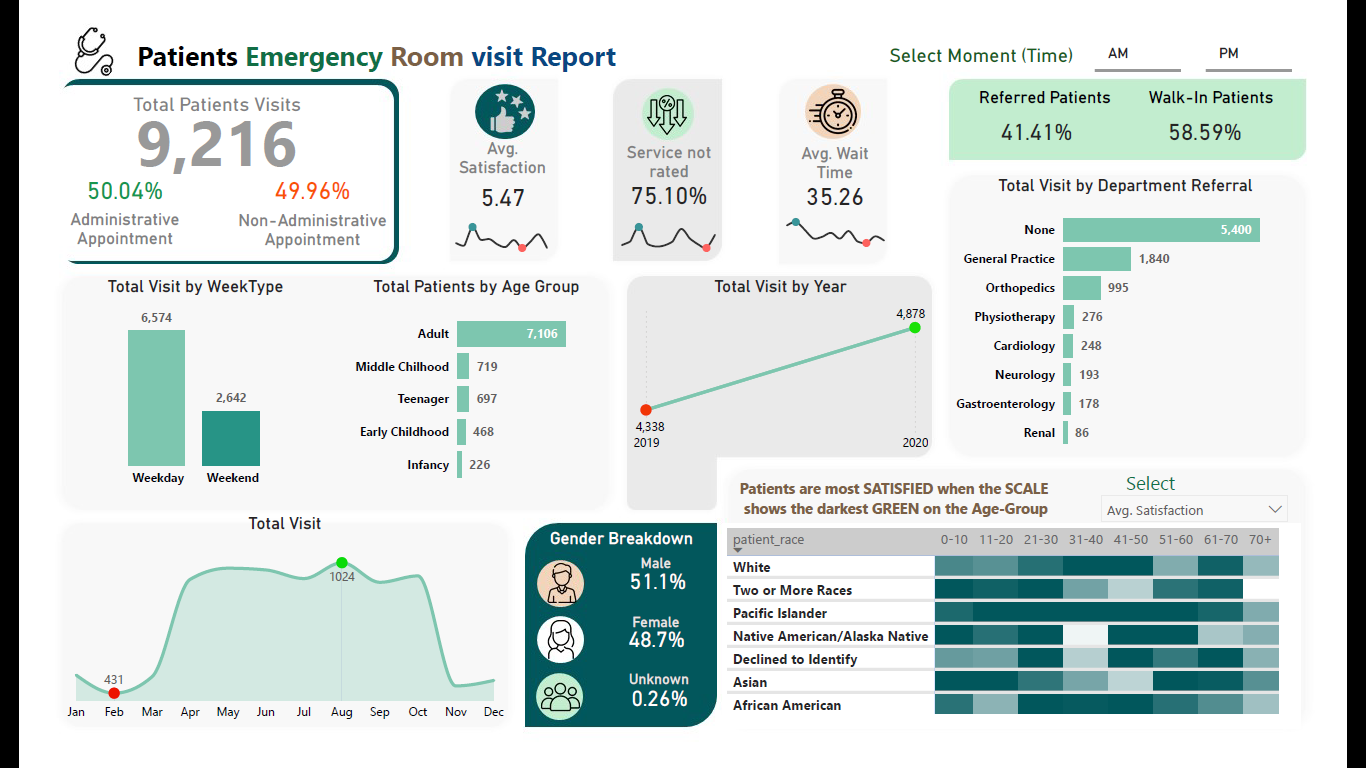

Layout of this report page (visuals, bound fields, positions):
{"tool":"powerbi","page":{"name":"Patient Healthcare","canvas":[1500,900],"ordinal":0},"visuals":[{"type":"card","fields":{"Values":["Calculations.Total_Patients"]},"box":[90.4,65.6,244.5,67.3],"z":0},{"type":"card","fields":{"Values":["Calculations.% Adminstrative Schedule"]},"box":[90.4,127.6,92.1,42.5],"z":1000},{"type":"card","fields":{"Values":["Calculations.% NON Adminstrative Schedule"]},"box":[223.2,122.2,122.2,42.5],"z":2000},{"type":"pivotTable","fields":{"Values":["Calculations.Avg Wait Time"],"Rows":["Patient_Dashboard.patient_race","DATE.Month"],"Columns":["Patient_Dashboard.Age Buckets"]},"box":[847,632,638,229],"z":3000},{"type":"slicer","fields":{"Values":["Parameter.Parameter"]},"box":[1267.7,563.1,216.9,63.1],"z":4000},{"type":"clusteredBarChart","fields":{"Category":["Patient_Dashboard.Age Group"],"Y":["Calculations.Total_Patients"]},"box":[49.6,269.3,285.2,253.3],"z":5000},{"type":"areaChart","title":"Total_Patients Visits","fields":{"Category":["DATE.Month"],"Y":["Calculations.Total_Patients","Calculations.Values Max Points (Month)"]},"box":[49.6,586.4,520.9,274.6],"z":6000},{"type":"advancedSlicerVisual","fields":{"Values":["Patient_Dashboard.Moment"]},"box":[634,504,163,45],"z":7000},{"type":"lineChart","title":"Total_Patients Visits by Year","fields":{"Category":["DATE.Year"],"Y":["Calculations.Total_Patients","Calculations.Values Max Points (Year)"]},"box":[644.4,270,347.4,180],"z":8000},{"type":"clusteredBarChart","fields":{"Y":["Calculations.Total_Patients"],"Category":["Patient_Dashboard.department_referral"]},"box":[1024.2,154.8,460.8,349.2],"z":9000},{"type":"card","fields":{"Values":["Calculations.%  Riffered Patients"]},"box":[1050.6,79.7,189.6,69.1],"z":10000},{"type":"card","fields":{"Values":["Calculations.% UN Riffered Patients"]},"box":[1291.5,79.7,177.2,67.3],"z":11000},{"type":"card","fields":{"Values":["Calculations.HitMap Caption"]},"box":[835.7,548.8,331.2,77],"z":12000},{"type":"textbox","box":[56.7,170.1,155.9,51.4],"z":13000},{"type":"textbox","box":[196.7,170.1,177.2,51.4],"z":14000},{"type":"card","title":"Avg Satisfaction","fields":{"Values":["Calculations.Avg_Satisfaction score"]},"box":[444.6,114.1,163,56.5],"z":15000},{"type":"card","title":"Avg Wait Time","fields":{"Values":["Calculations.Avg Wait Time"]},"box":[855.4,112,137,57.6],"z":16000},{"type":"card","title":"Service Not Related","fields":{"Values":["Calculations.% No Rating"]},"box":[632.6,113,185.9,56.5],"z":17000},{"type":"textbox","box":[1024,46.1,246.3,33.7],"z":18000},{"type":"textbox","box":[1291.5,46.1,193.1,33.7],"z":19000},{"type":"clusteredColumnChart","title":"Patients by Weektype","fields":{"Y":["Calculations.Total_Patients"],"Category":["DATE.Weektype"]},"box":[340.2,281.7,267.5,253.3],"z":20000},{"type":"card","fields":{"Values":["Calculations.% Female Values"]},"box":[710.4,618.1,94.5,76.9],"z":21000},{"type":"card","fields":{"Values":["Calculations.% Male Values"]},"box":[710.4,695.1,94.5,84.6],"z":22000},{"type":"textbox","box":[90,42.9,267.1,37.1],"z":23000},{"type":"PBI_CV_25997FEB_F466_44FA_B562_AC4063283C4C","fields":{"measure":["Calculations.Avg_Satisfaction score"],"axis":["DATE.Month"]},"box":[444.8,170.1,157.5,57.5],"z":24000},{"type":"PBI_CV_25997FEB_F466_44FA_B562_AC4063283C4C","fields":{"measure":["Calculations.% No Rating"],"axis":["DATE.Month"]},"box":[639.1,170.7,157.6,57.6],"z":25000},{"type":"PBI_CV_25997FEB_F466_44FA_B562_AC4063283C4C","fields":{"measure":["Calculations.Avg Wait Time"],"axis":["DATE.Month"]},"box":[834.8,170.7,157.6,57.6],"z":26000},{"type":"card","fields":{"Values":["Calculations.% Unknown"]},"box":[697.3,787.4,107.7,73.1],"z":27000},{"type":"textbox","box":[602.3,572.2,219.9,37.5],"z":28000},{"type":"textbox","box":[717.6,617.6,71,26.8],"z":29000},{"type":"textbox","box":[710.6,681.7,71.2,26.9],"z":30000},{"type":"textbox","box":[669.2,779.8,152.9,26.9],"z":31000},{"type":"textbox","box":[1176.9,572.3,90.8,38.5],"z":32000},{"type":"textbox","box":[121,0,405,36],"z":33000}]}

Visuals, with their boxes on the page's 1500x900 design canvas (x1, y1, x2, y2). These are canvas units, not pixel positions in the 1366x768 screenshot, which may show the page scaled, cropped or inside an application window:
card - Calculations.Total_Patients: left=90, top=66, right=335, bottom=133
card - Calculations.% Adminstrative Schedule: left=90, top=128, right=182, bottom=170
card - Calculations.% NON Adminstrative Schedule: left=223, top=122, right=345, bottom=165
pivotTable - Calculations.Avg Wait Time x Patient_Dashboard.patient_race: left=847, top=632, right=1485, bottom=861
slicer - Parameter.Parameter: left=1268, top=563, right=1485, bottom=626
clusteredBarChart - Patient_Dashboard.Age Group x Calculations.Total_Patients: left=50, top=269, right=335, bottom=523
"Total_Patients Visits" areaChart: left=50, top=586, right=570, bottom=861
advancedSlicerVisual - Patient_Dashboard.Moment: left=634, top=504, right=797, bottom=549
"Total_Patients Visits by Year" lineChart: left=644, top=270, right=992, bottom=450
clusteredBarChart - Calculations.Total_Patients x Patient_Dashboard.department_referral: left=1024, top=155, right=1485, bottom=504
card - Calculations.%  Riffered Patients: left=1051, top=80, right=1240, bottom=149
card - Calculations.% UN Riffered Patients: left=1292, top=80, right=1469, bottom=147
card - Calculations.HitMap Caption: left=836, top=549, right=1167, bottom=626
textbox: left=57, top=170, right=213, bottom=222
textbox: left=197, top=170, right=374, bottom=222
"Avg Satisfaction" card: left=445, top=114, right=608, bottom=171
"Avg Wait Time" card: left=855, top=112, right=992, bottom=170
"Service Not Related" card: left=633, top=113, right=818, bottom=170
textbox: left=1024, top=46, right=1270, bottom=80
textbox: left=1292, top=46, right=1485, bottom=80
"Patients by Weektype" clusteredColumnChart: left=340, top=282, right=608, bottom=535
card - Calculations.% Female Values: left=710, top=618, right=805, bottom=695
card - Calculations.% Male Values: left=710, top=695, right=805, bottom=780
textbox: left=90, top=43, right=357, bottom=80
PBI_CV_25997FEB_F466_44FA_B562_AC4063283C4C - Calculations.Avg_Satisfaction score x DATE.Month: left=445, top=170, right=602, bottom=228
PBI_CV_25997FEB_F466_44FA_B562_AC4063283C4C - Calculations.% No Rating x DATE.Month: left=639, top=171, right=797, bottom=228
PBI_CV_25997FEB_F466_44FA_B562_AC4063283C4C - Calculations.Avg Wait Time x DATE.Month: left=835, top=171, right=992, bottom=228
card - Calculations.% Unknown: left=697, top=787, right=805, bottom=860
textbox: left=602, top=572, right=822, bottom=610
textbox: left=718, top=618, right=789, bottom=644
textbox: left=711, top=682, right=782, bottom=709
textbox: left=669, top=780, right=822, bottom=807
textbox: left=1177, top=572, right=1268, bottom=611
textbox: left=121, top=0, right=526, bottom=36
